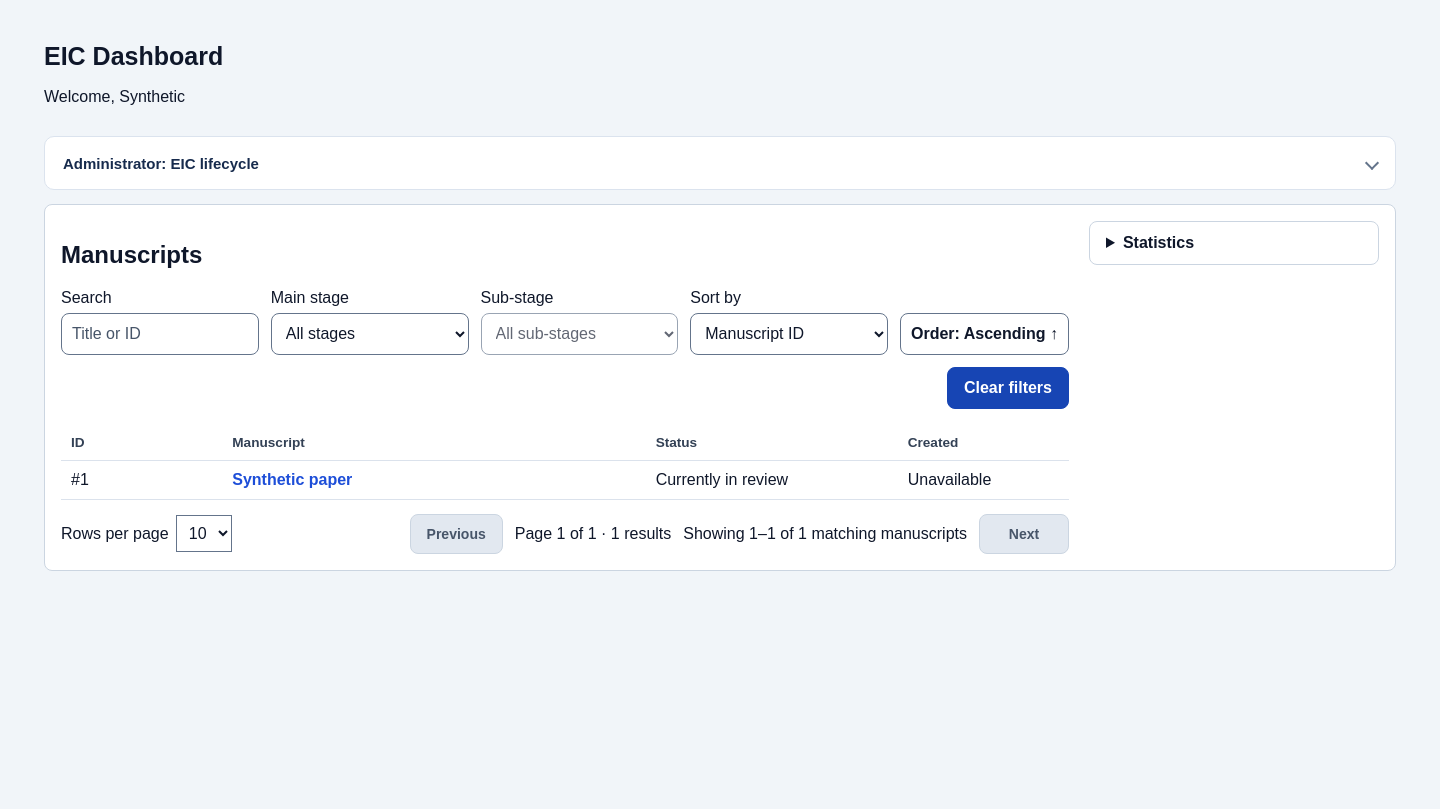
Scenario: associates the decision prompt with the authorized decision stage
This screenshot has width=1440, height=809.
Click the button with aria-label "#1 Synthetic paper": click(292, 480) 232,471 -> 352,489
(page scrolled)
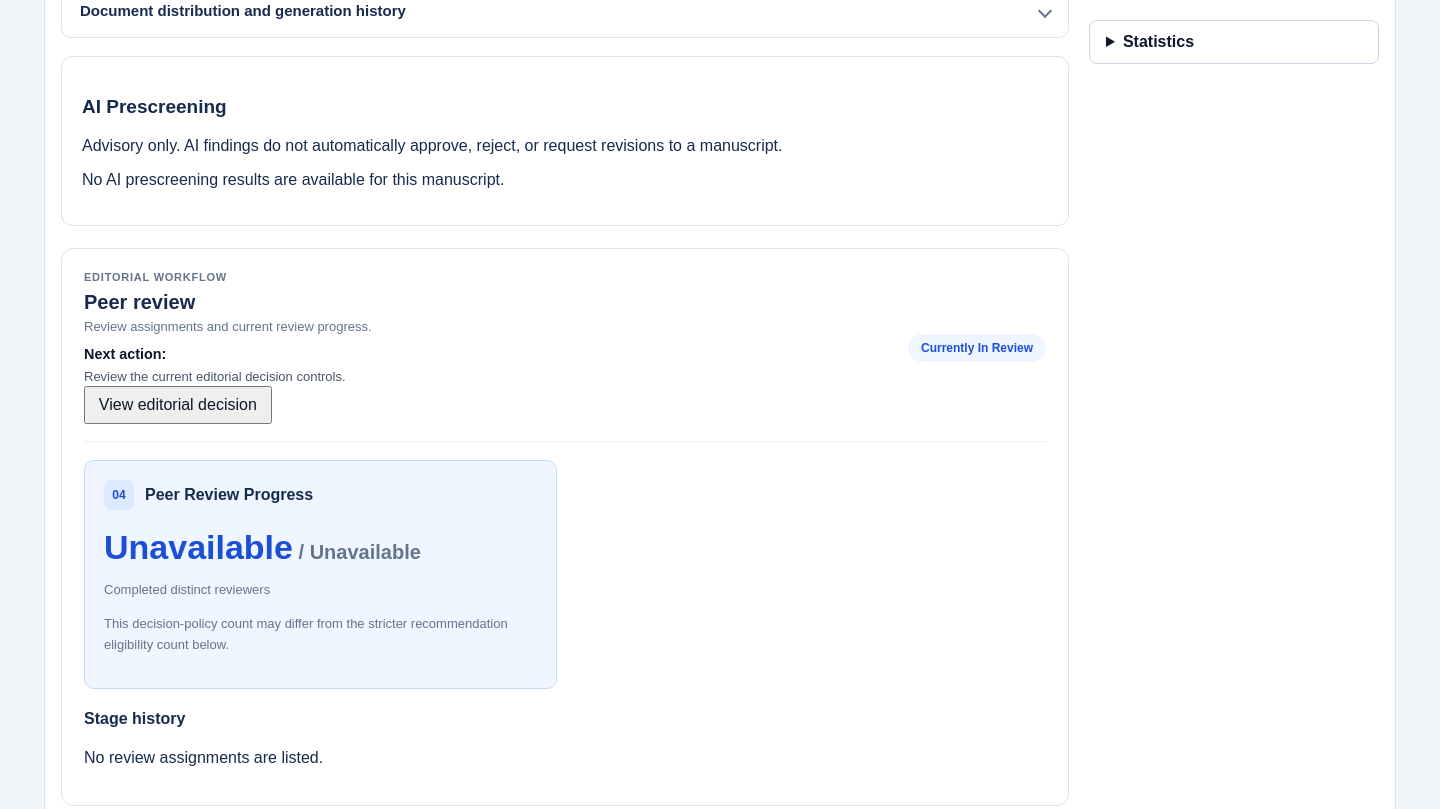
Click the button "View editorial decision": click(178, 405) 84,386 -> 272,424
(page scrolled)
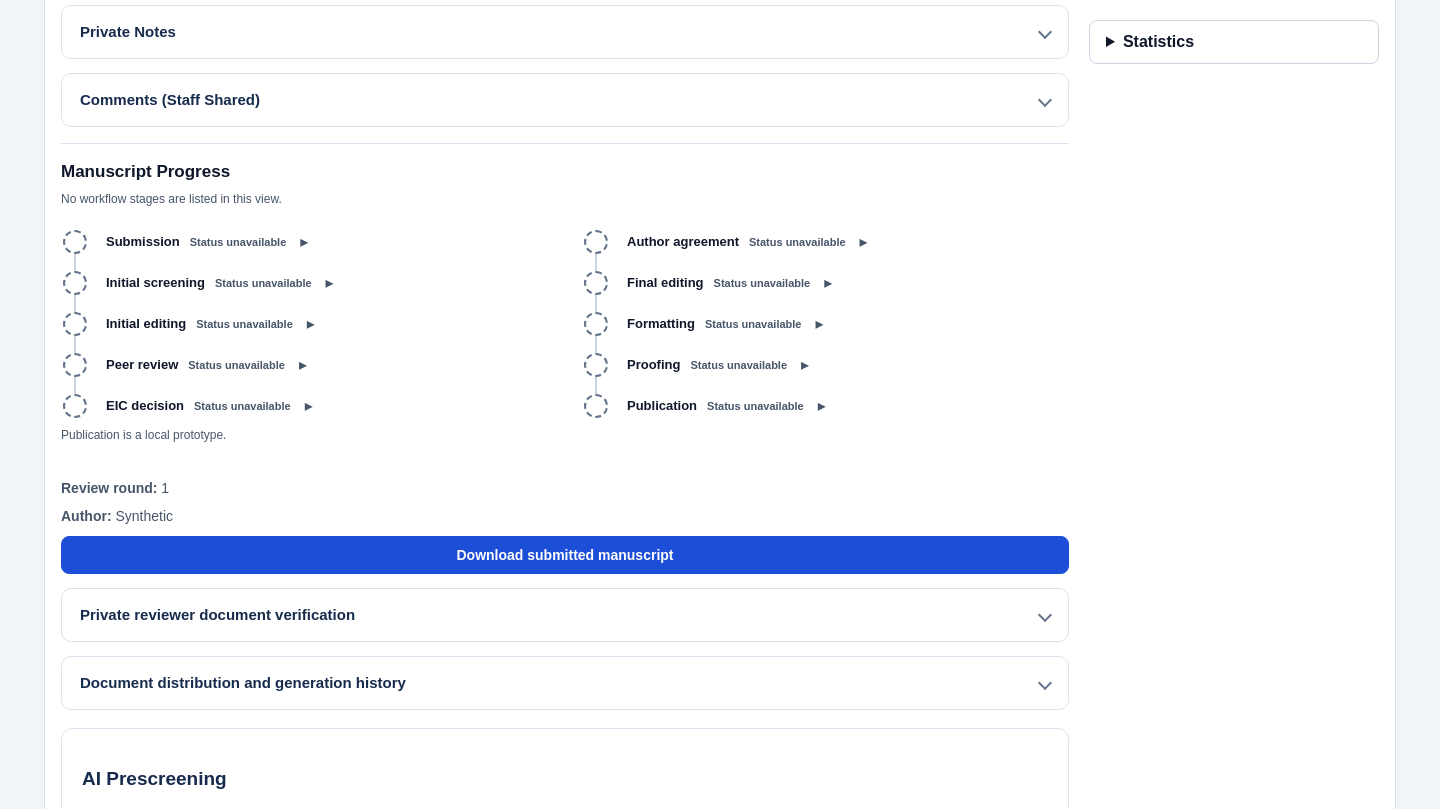
Click the text "Publication": click(662, 406) 627,398 -> 697,413
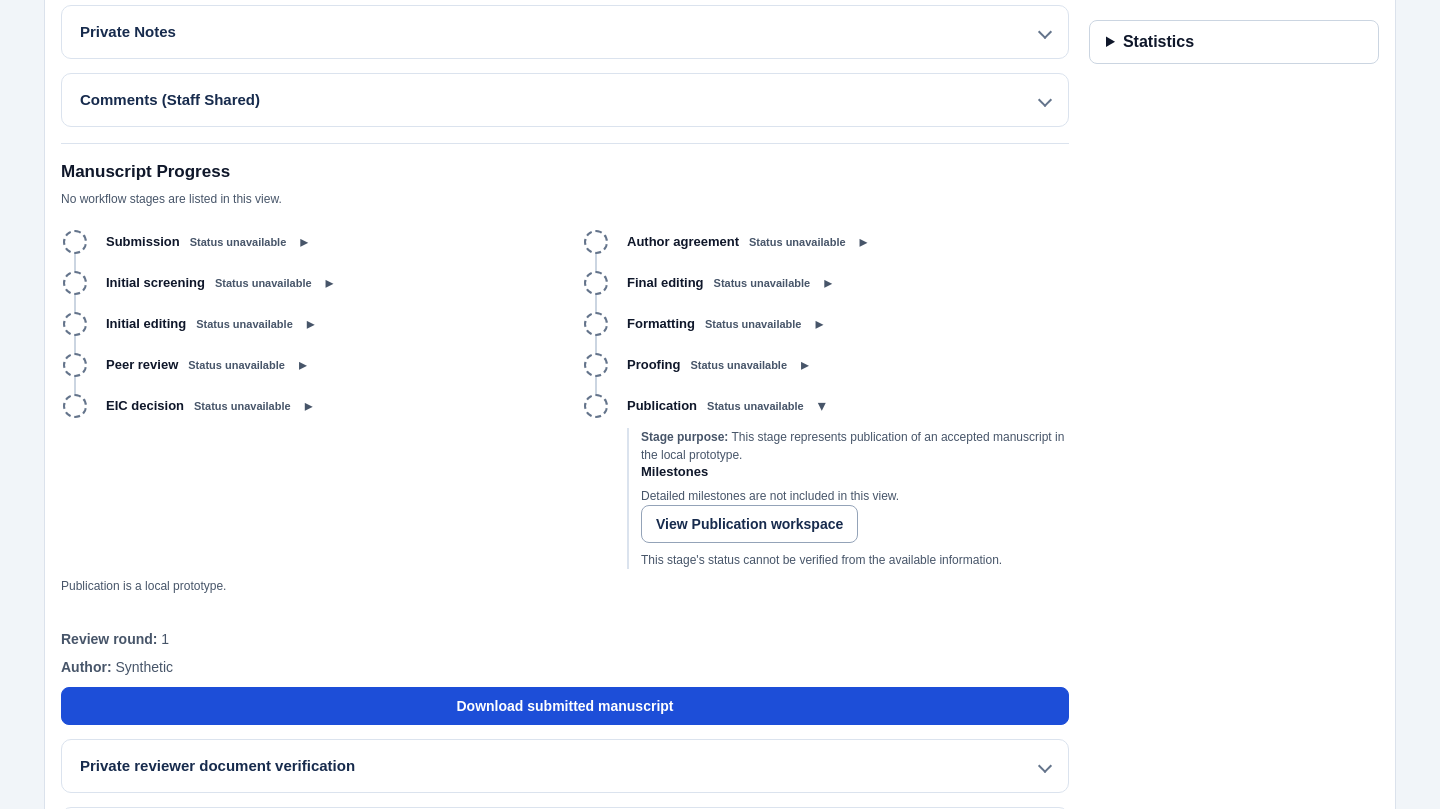
Click the button "View Publication workspace": click(750, 524) 641,505 -> 858,543
(page scrolled)
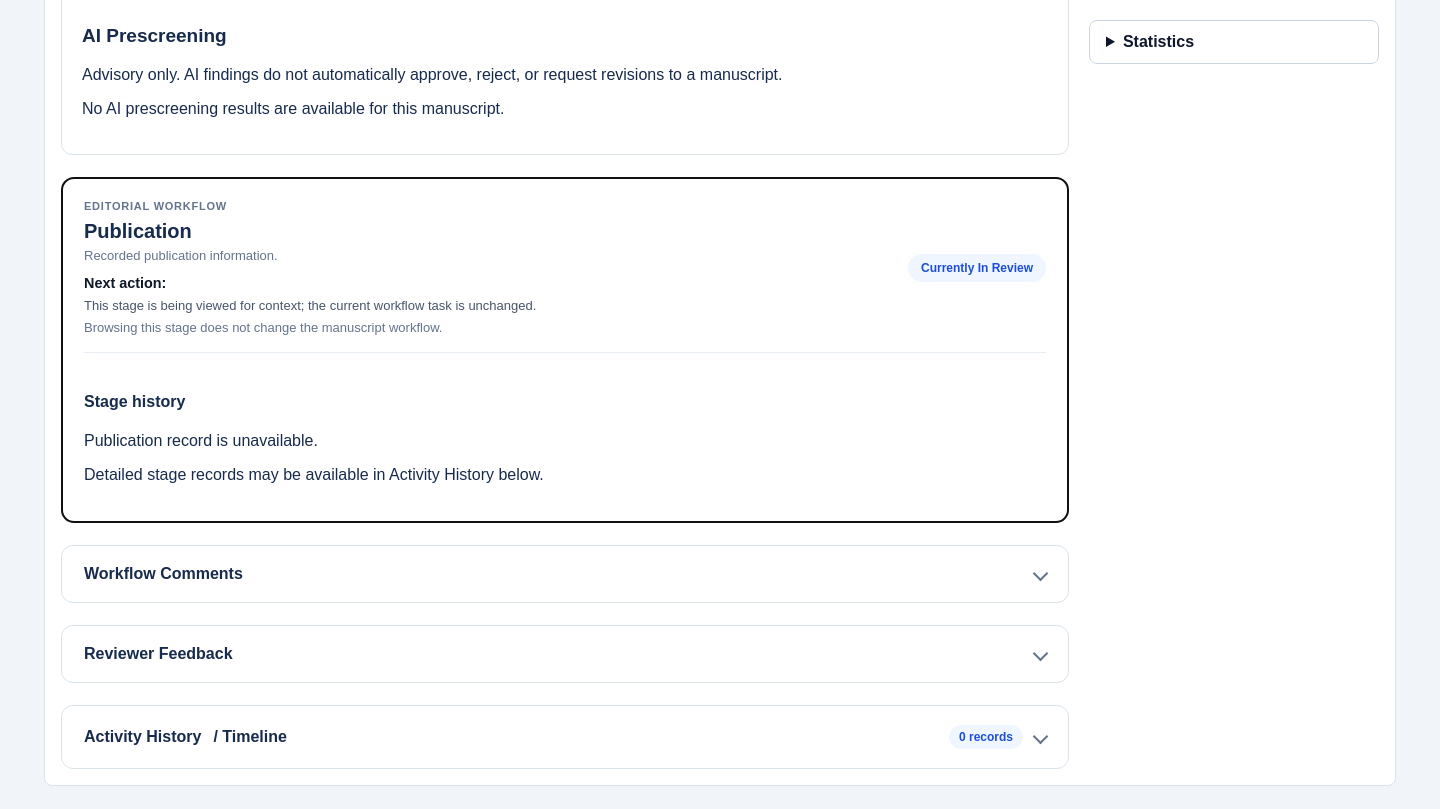
Check: the text "This stage is being viewed for context; the current workflow task is unchanged." is shown, box 84,296 -> 536,315
